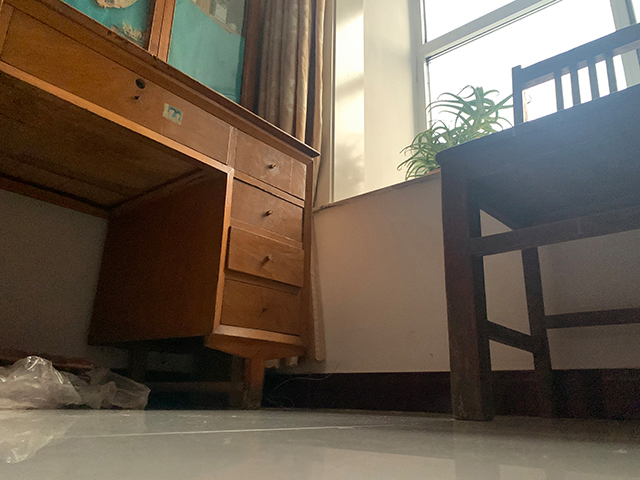cabinet: (1, 1, 321, 410)
curtain: (244, 1, 325, 370)
stool: (434, 22, 640, 424)
wire: (263, 365, 335, 411)
